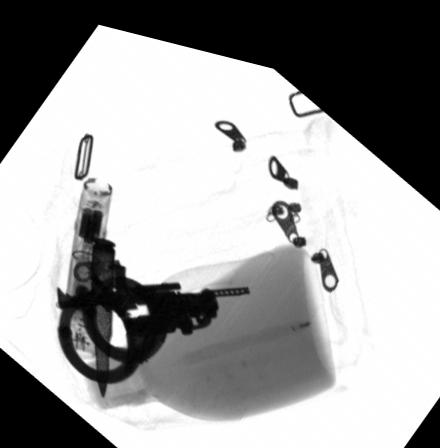Baton: (60, 172, 113, 354)
Bullet: (91, 231, 116, 393)
Gun: (56, 254, 252, 306)
HandCuffs: (57, 270, 216, 378)
